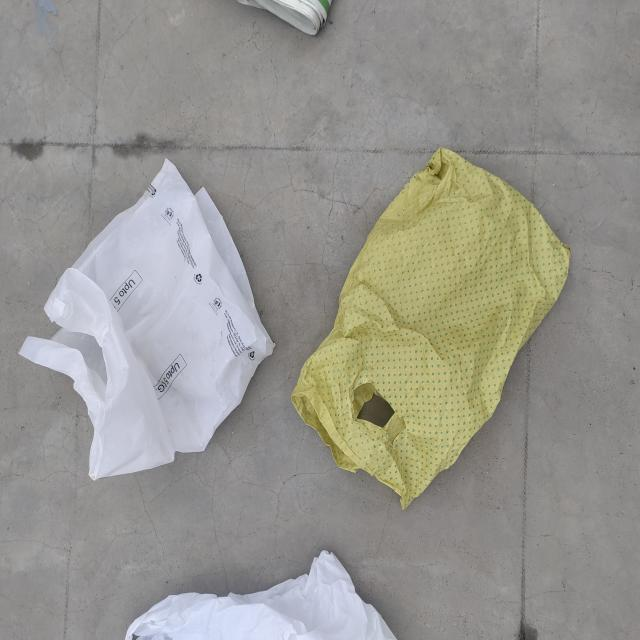paper: (212, 0, 357, 49)
plastic: (316, 147, 596, 499), (5, 168, 282, 487), (110, 526, 427, 640)
